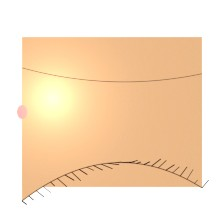corneal_ulcer: (99, 99, 141, 132)
